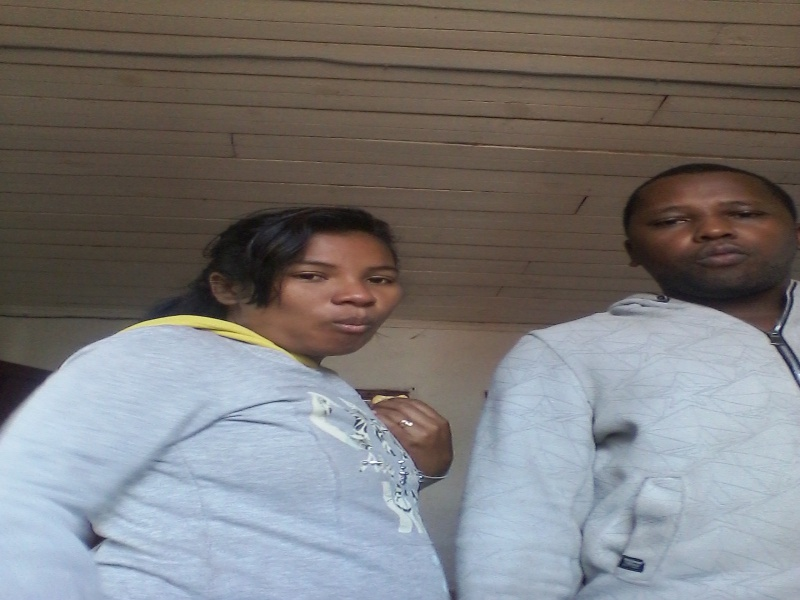TsisyArotava: (602, 160, 796, 298), (254, 217, 409, 372)
